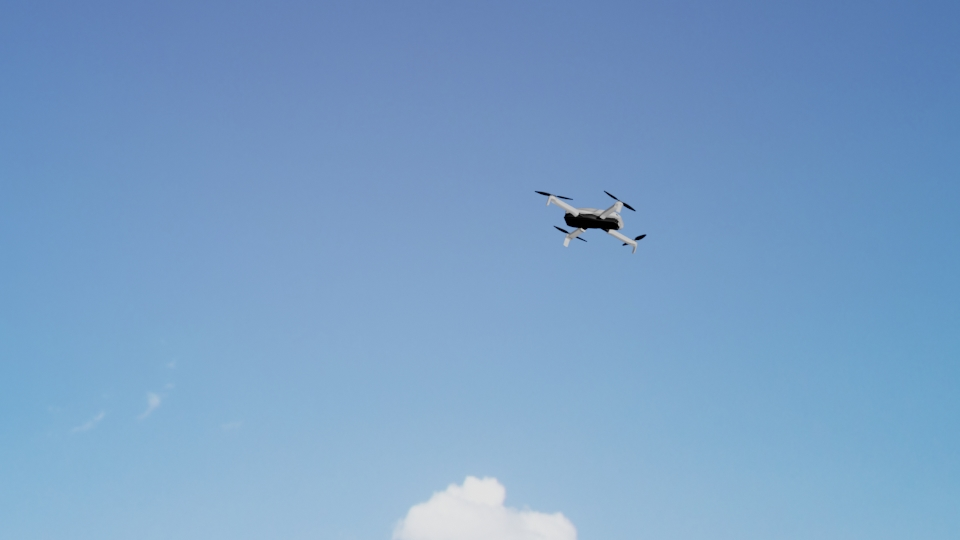drone: (536, 182, 648, 255)
